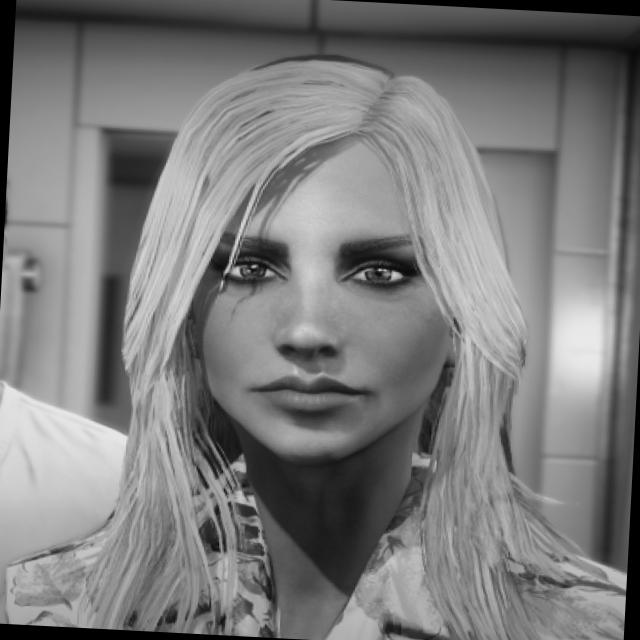face: (158, 52, 500, 480)
